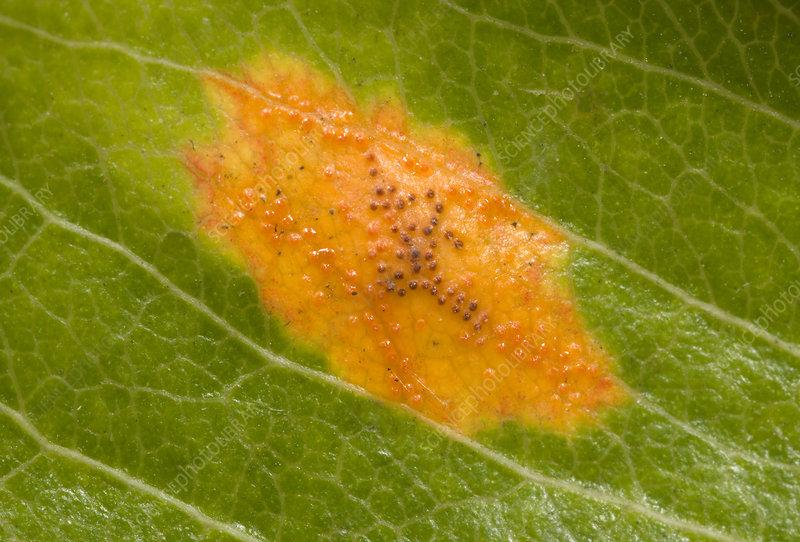Apple rust leaf: (105, 35, 707, 518)
